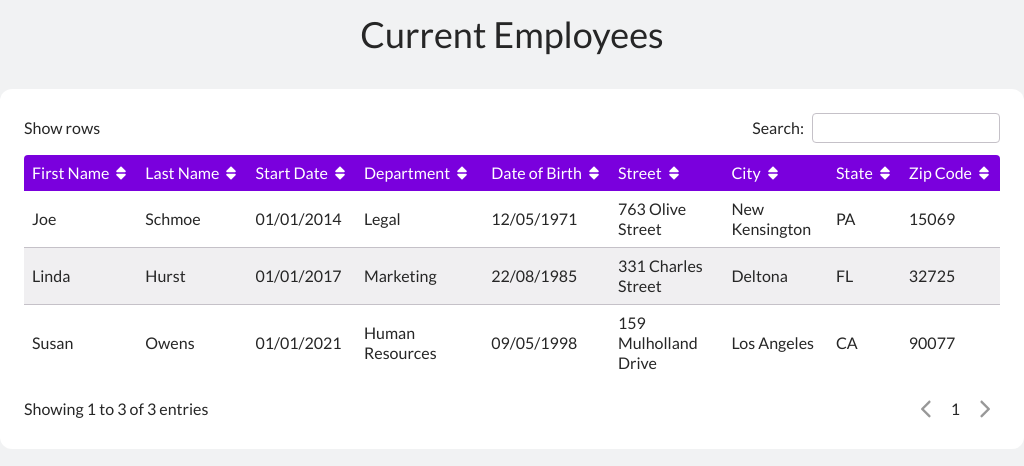
The CurrentEmployees component › should render only matching employees when the user searches a term in the searchbar
The width and height of the screenshot is (1024, 466).
Type "Linda" into the search field labelled "Search:".
click(906, 128); type("Linda")  # box [812,113,1000,143]
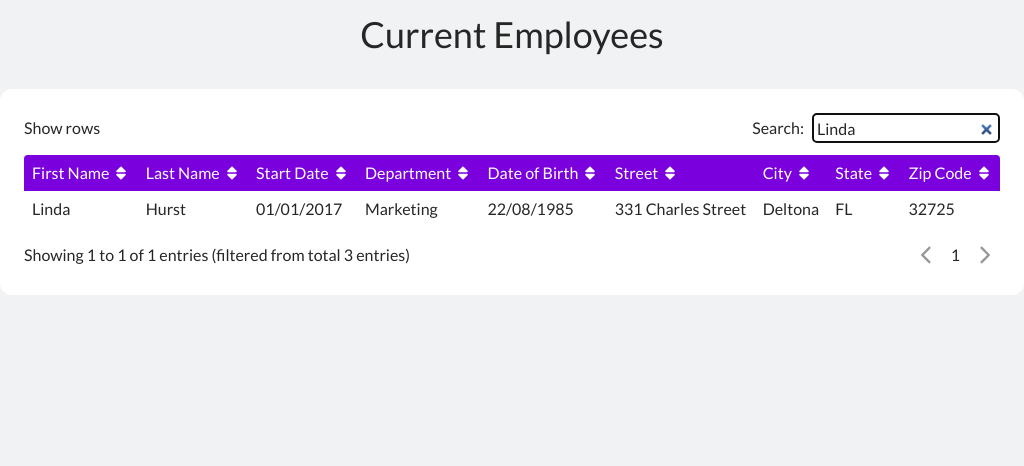
Check: the text "Linda" is shown, box [24,191,138,227]
Check: the text "Joe" is gone
Check: the text "Susan" is gone
